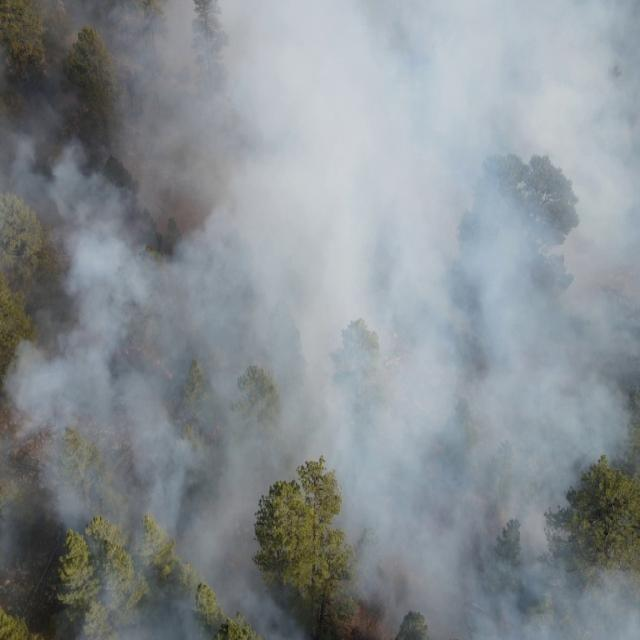smoke: (352, 0, 640, 640), (2, 2, 350, 472), (3, 470, 259, 640), (260, 581, 312, 640)
